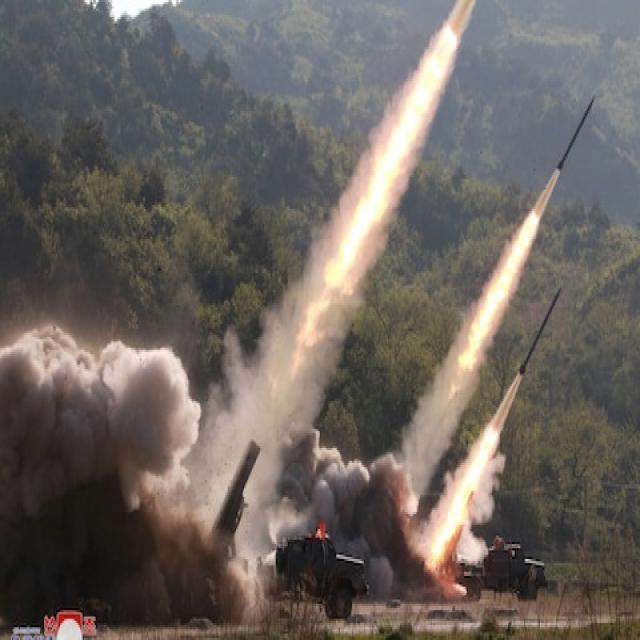missile: (512, 277, 568, 383), (547, 94, 600, 180)
